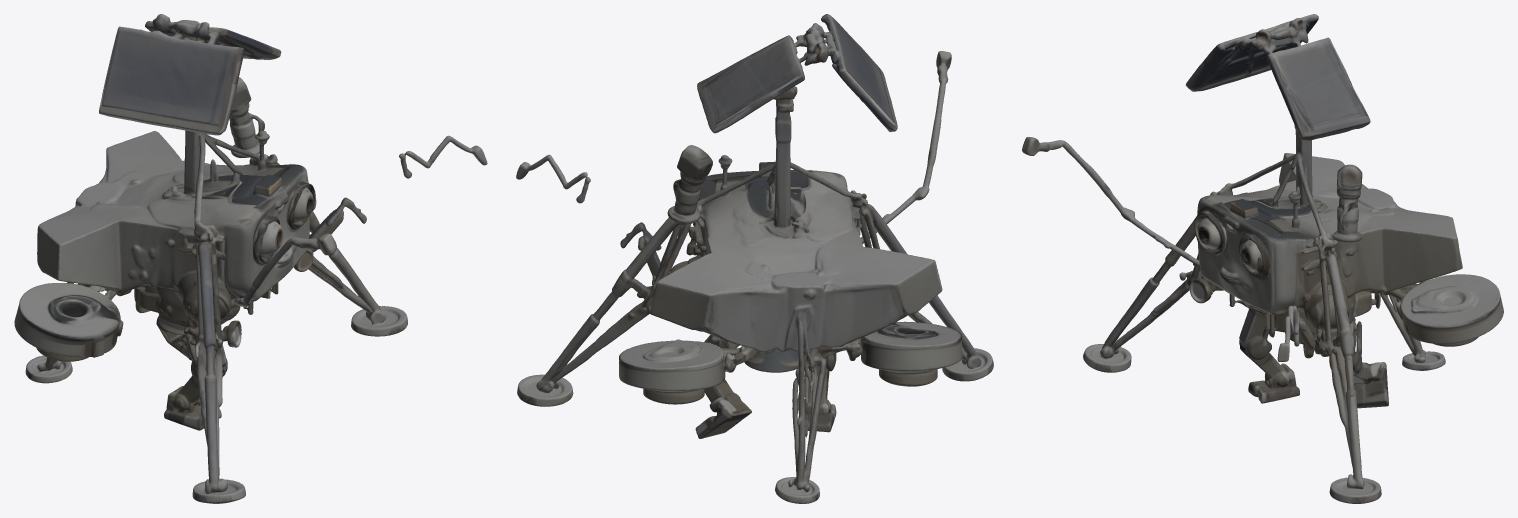
The model's file is surveyor-3.meshopt-test.glb.
3 views of the same model, side by side, from view 1: azimuth 30°, elevation 25°; view 2: azimuth 150°, elevation 25°; view 3: azimuth 270°, elevation 25° (orthographic). The views are drawn at different scales.
Visible parts, largest first — view 1: tripo_node_bbfbc77d-5a7b-4813-a74b-f049a1e9843a; view 2: tripo_node_bbfbc77d-5a7b-4813-a74b-f049a1e9843a; view 3: tripo_node_bbfbc77d-5a7b-4813-a74b-f049a1e9843a.
Part boxes in pixels (x1,y1,x2,y2): tripo_node_bbfbc77d-5a7b-4813-a74b-f049a1e9843a: (14, 14, 487, 503); tripo_node_bbfbc77d-5a7b-4813-a74b-f049a1e9843a: (516, 14, 993, 503); tripo_node_bbfbc77d-5a7b-4813-a74b-f049a1e9843a: (1022, 14, 1503, 503).
Size of the model in its own units: 1 by 0.8452 by 0.9971.
1 material, 1 textured.
